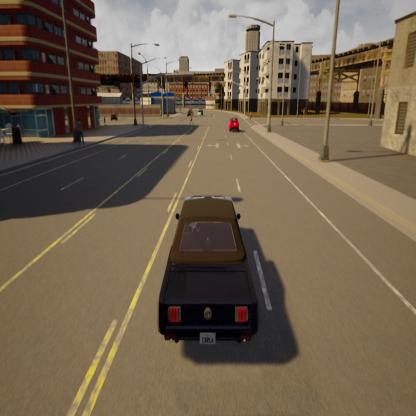Cars: (158, 178, 260, 358), (227, 113, 242, 139)
Pedestrian: (76, 113, 85, 150)
